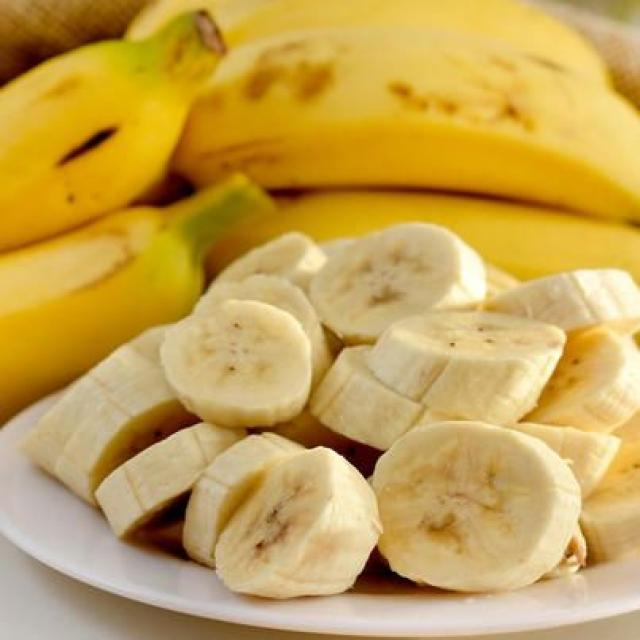banana slice: (372, 423, 581, 592), (23, 328, 195, 503), (215, 448, 381, 598), (367, 312, 565, 424), (310, 223, 485, 344), (161, 301, 311, 427), (96, 423, 246, 536), (183, 434, 304, 566), (194, 275, 333, 385), (526, 328, 639, 431), (310, 347, 424, 449), (486, 269, 639, 331), (512, 423, 620, 498), (272, 410, 381, 478), (582, 442, 639, 562), (216, 232, 327, 290), (274, 410, 355, 455), (544, 526, 587, 579), (485, 263, 520, 298), (614, 412, 639, 443), (320, 239, 354, 257)
unpeal banana: (176, 27, 638, 218), (0, 179, 270, 422), (0, 11, 221, 249), (125, 0, 607, 84), (208, 192, 638, 283)
